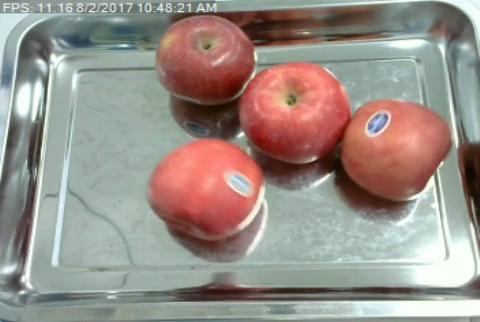apple: (145, 138, 265, 242), (341, 101, 452, 202), (238, 62, 351, 161), (155, 13, 257, 102)
